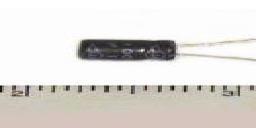Electrolytic-Capacitor: (76, 35, 256, 63)
